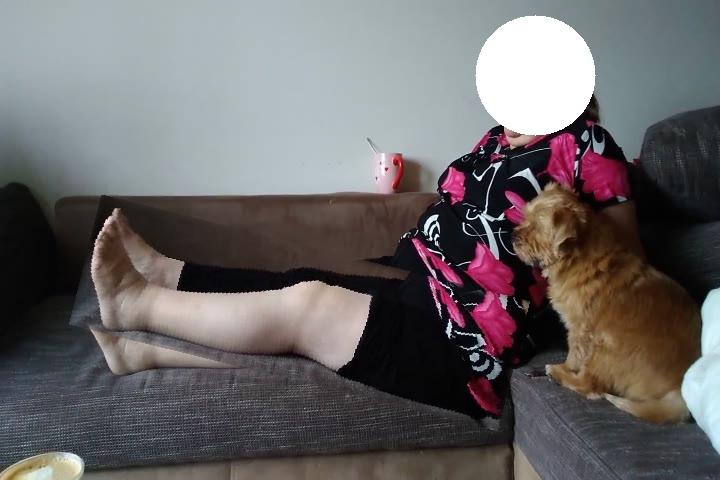lowerbody: (75, 221, 527, 407)
